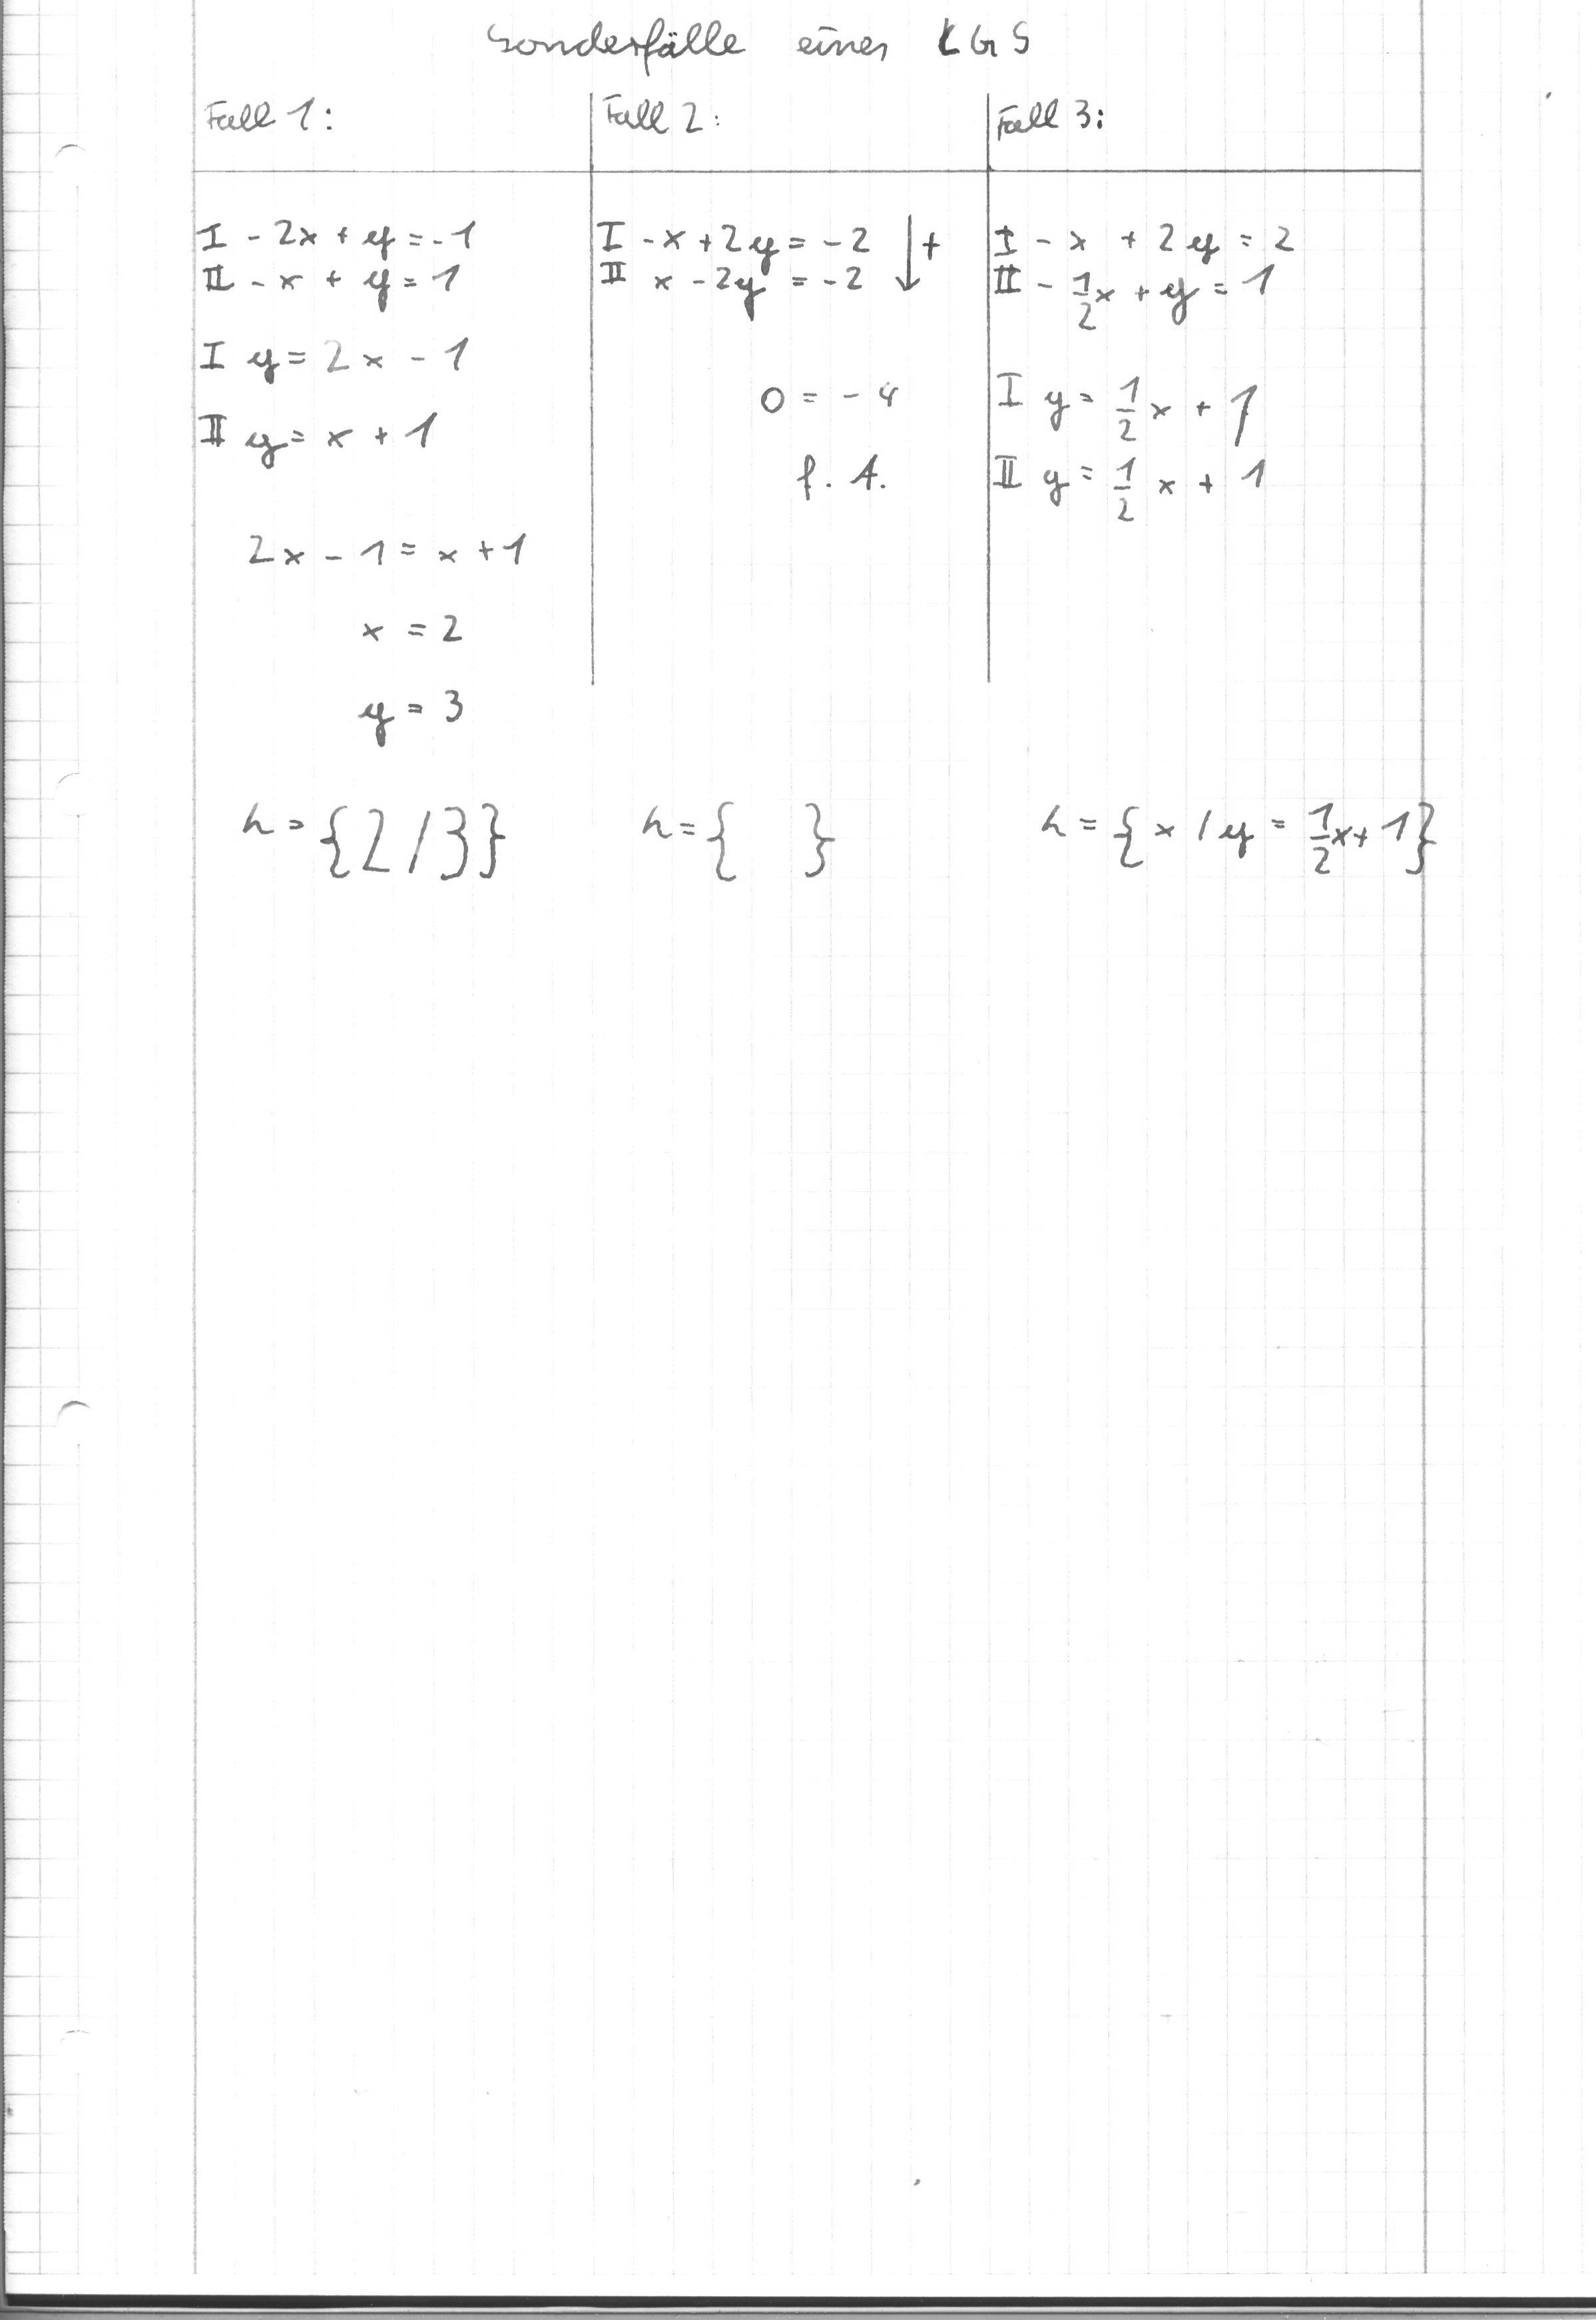word: (973, 193, 1314, 555), (579, 198, 957, 513), (208, 777, 858, 917), (172, 201, 498, 478), (229, 509, 560, 768), (1011, 763, 1458, 913)
